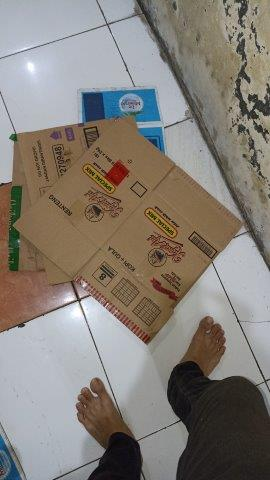kardus: (10, 88, 242, 344)
